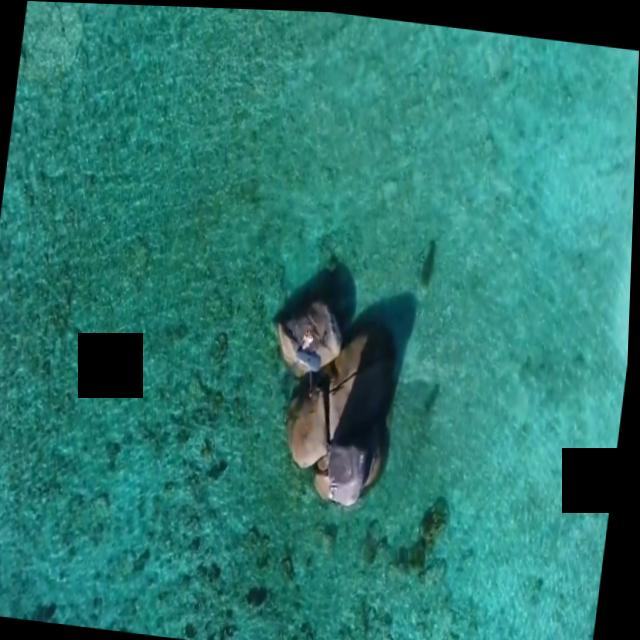Vehicle: (288, 336, 332, 398)
